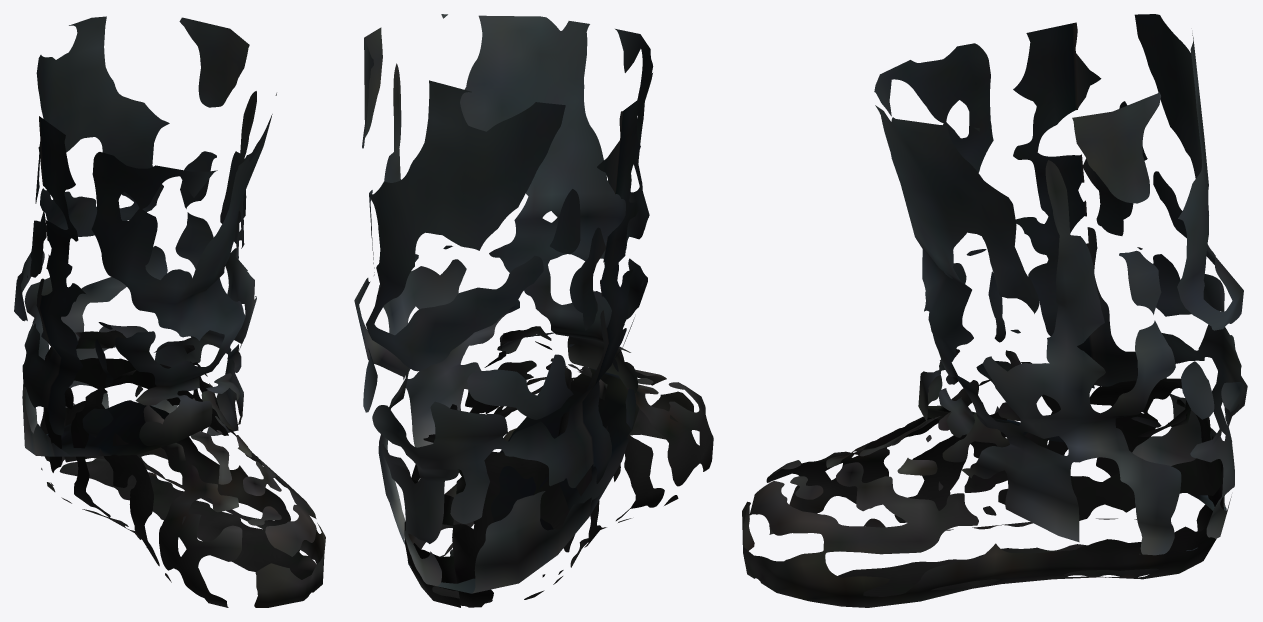
Rendered from BottomLeftLeg.obj.
The picture shows the model from 3 angles, left to right: view 1: azimuth 30°, elevation 25°; view 2: azimuth 150°, elevation 25°; view 3: azimuth 270°, elevation 25°; orthographic projection. The views are drawn at different scales.
Visible parts, largest first — view 1: rdmobj00.002; view 2: rdmobj00.002; view 3: rdmobj00.002.
Boxes of the visible parts, bbox=[...] form: rdmobj00.002: bbox=[14, 16, 325, 607]; rdmobj00.002: bbox=[354, 14, 713, 607]; rdmobj00.002: bbox=[742, 14, 1247, 607].
Bounding box in the file's own units: 0.7337 × 1.49 × 1.3.
1 material, 1 textured.
